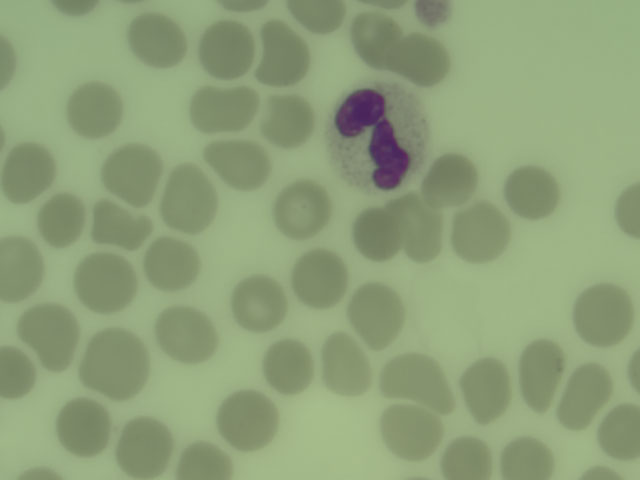RBC: (79, 327, 154, 398), (15, 294, 84, 362), (255, 19, 311, 91), (375, 352, 449, 405), (457, 357, 516, 422), (347, 287, 403, 345), (559, 361, 605, 430), (516, 340, 560, 412), (65, 86, 123, 138), (196, 21, 254, 73), (56, 402, 114, 454), (115, 418, 173, 470), (219, 393, 277, 445), (258, 338, 316, 390), (156, 302, 214, 354), (230, 278, 288, 330), (274, 182, 332, 234), (140, 237, 198, 289), (74, 252, 132, 304), (33, 196, 91, 248), (156, 172, 214, 224), (211, 134, 269, 186), (192, 81, 250, 133), (132, 13, 190, 65), (98, 146, 156, 198), (440, 428, 498, 480), (383, 407, 441, 459), (574, 285, 632, 337), (349, 10, 405, 61), (316, 338, 372, 389), (292, 254, 348, 305), (503, 168, 559, 219), (451, 205, 507, 256), (391, 202, 447, 253), (350, 203, 406, 254), (422, 155, 478, 206), (263, 96, 319, 141), (3, 149, 50, 202), (1, 235, 40, 296), (392, 36, 450, 75), (504, 436, 548, 480), (1, 347, 32, 405), (605, 407, 640, 457), (294, 1, 349, 29), (614, 185, 640, 240), (1, 41, 15, 90)
WBC: (332, 86, 427, 188)
